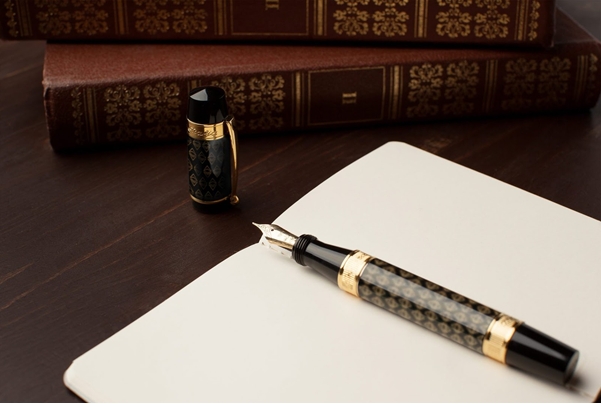Nonrec_Other: (242, 210, 588, 391), (172, 79, 246, 217)
